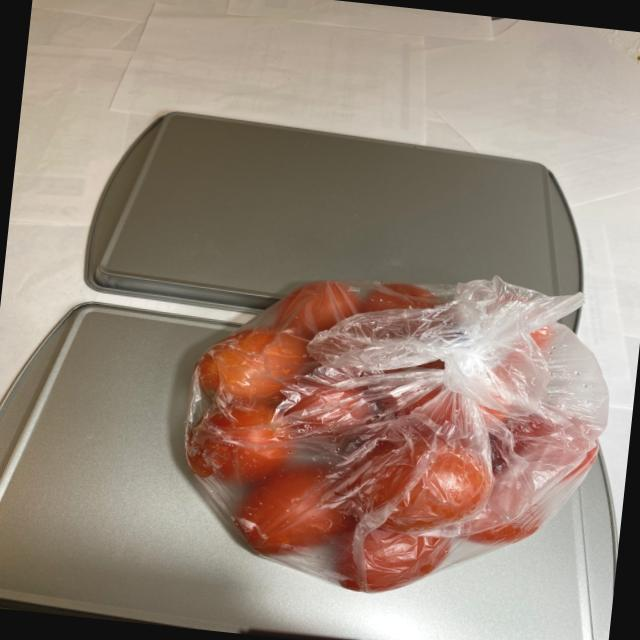tomato: (163, 255, 610, 606)
